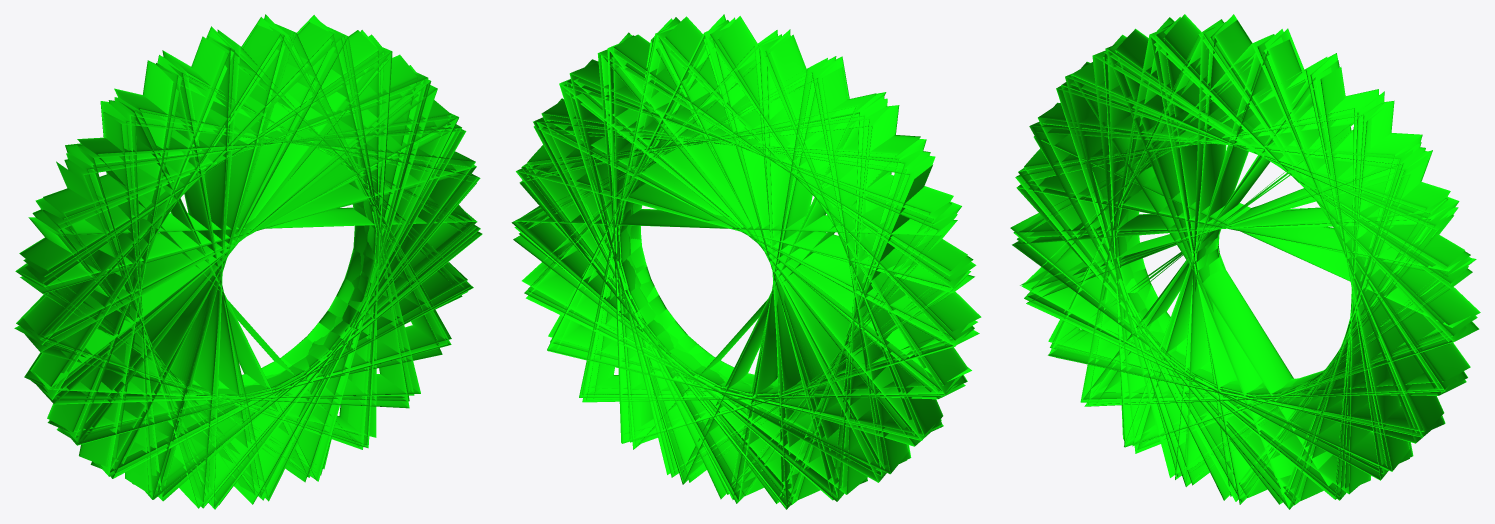
The model's file is ai-transformer-attention-solid (4).gltf.
3 renders of one model, left to right at view 1: azimuth 30°, elevation 25°; view 2: azimuth 150°, elevation 25°; view 3: azimuth 330°, elevation 25°, orthographic.
Visible parts, largest first — view 1: ai_transformer_attention_solid; view 2: ai_transformer_attention_solid; view 3: ai_transformer_attention_solid.
Boxes of the visible parts, bbox=[...] form: ai_transformer_attention_solid: bbox=[14, 14, 482, 509]; ai_transformer_attention_solid: bbox=[511, 14, 981, 509]; ai_transformer_attention_solid: bbox=[1010, 14, 1480, 509].
Size of the model in its own units: 1.2 by 1.2 by 0.1214.
